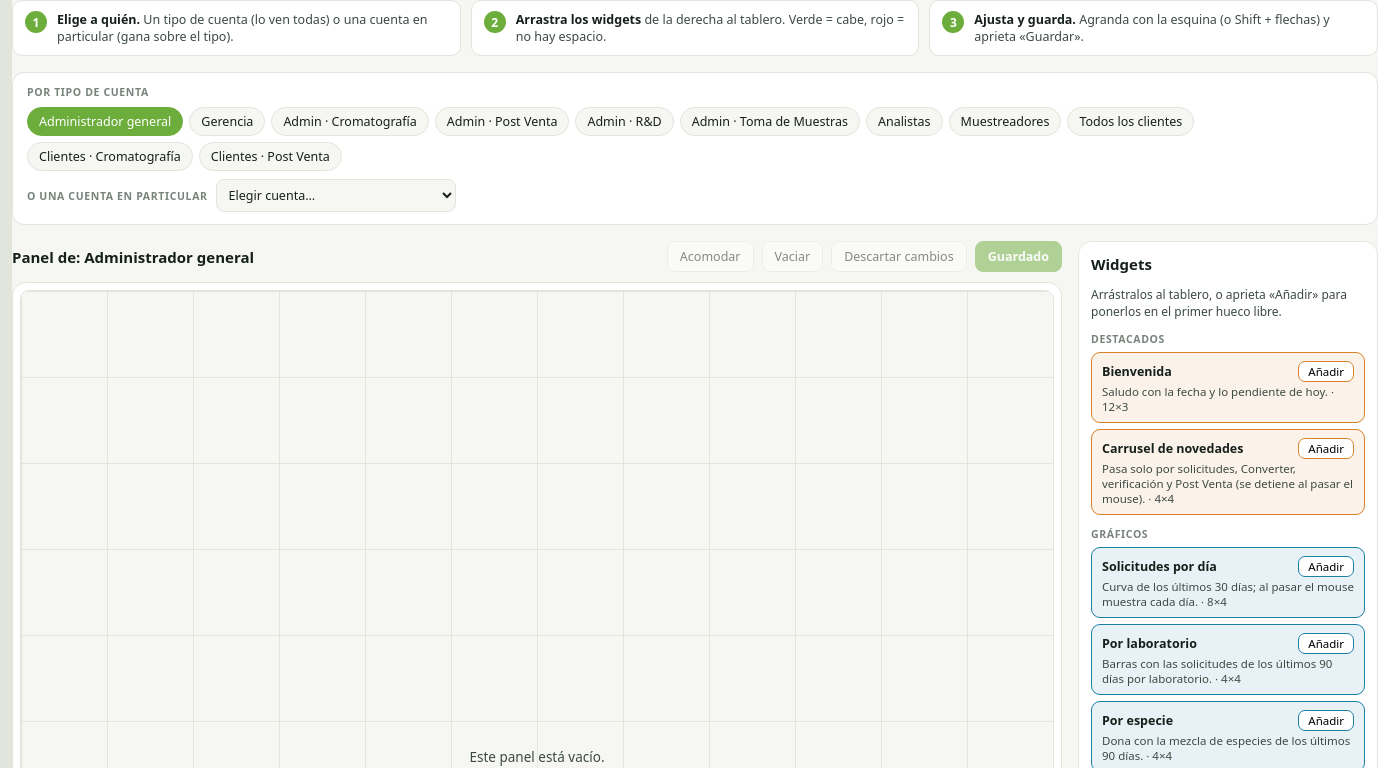
editor del Panel de inicio › a los clientes solo se les ofrecen widgets de cliente
Expected: the text "Este panel está vacío" is shown, [470,748,604,766]
Click the button "Todos los clientes": [1131, 122] box [1067,107,1194,136]
(page scrolled)
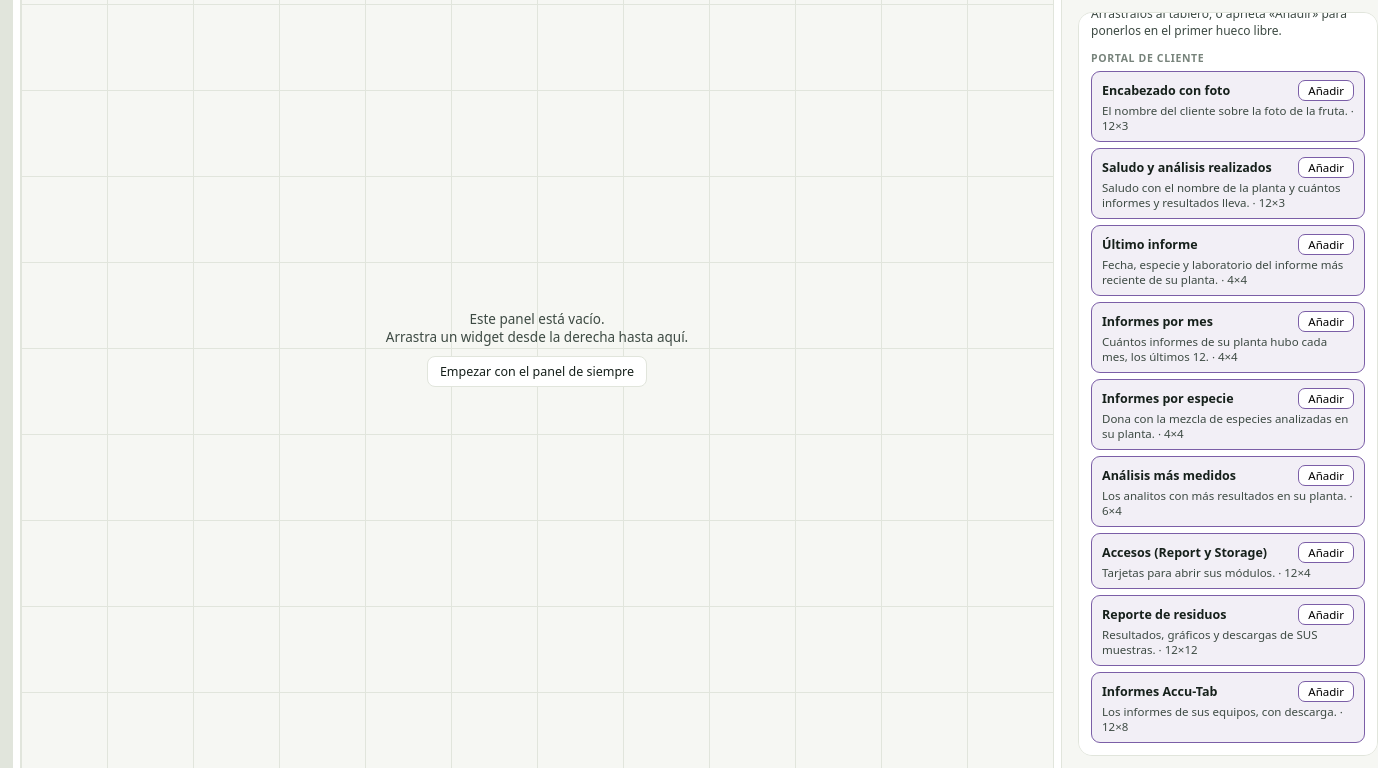
Now the button with aria-label "Añadir Reporte de residuos" is shown, box [1298,604,1354,625]
